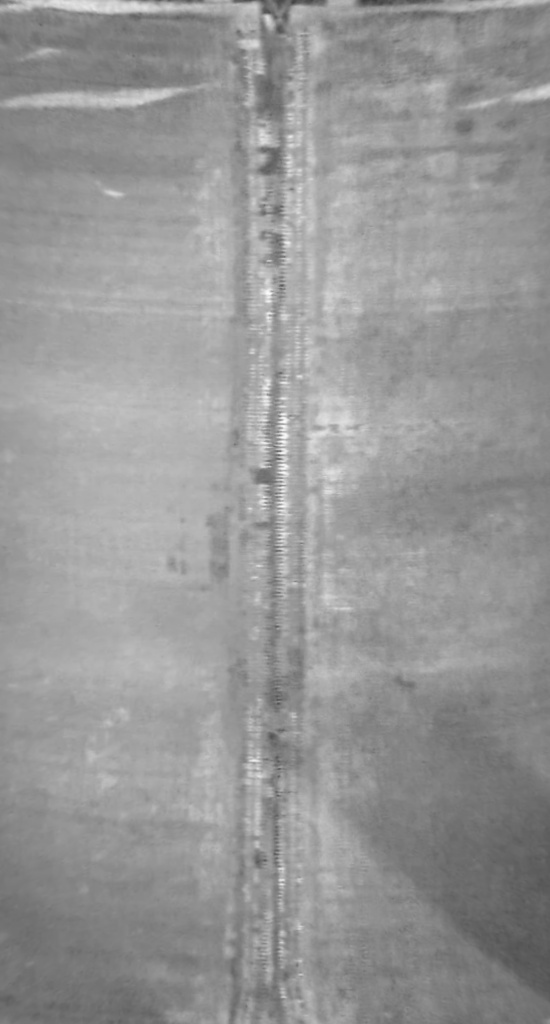splice: (232, 3, 329, 1024)
